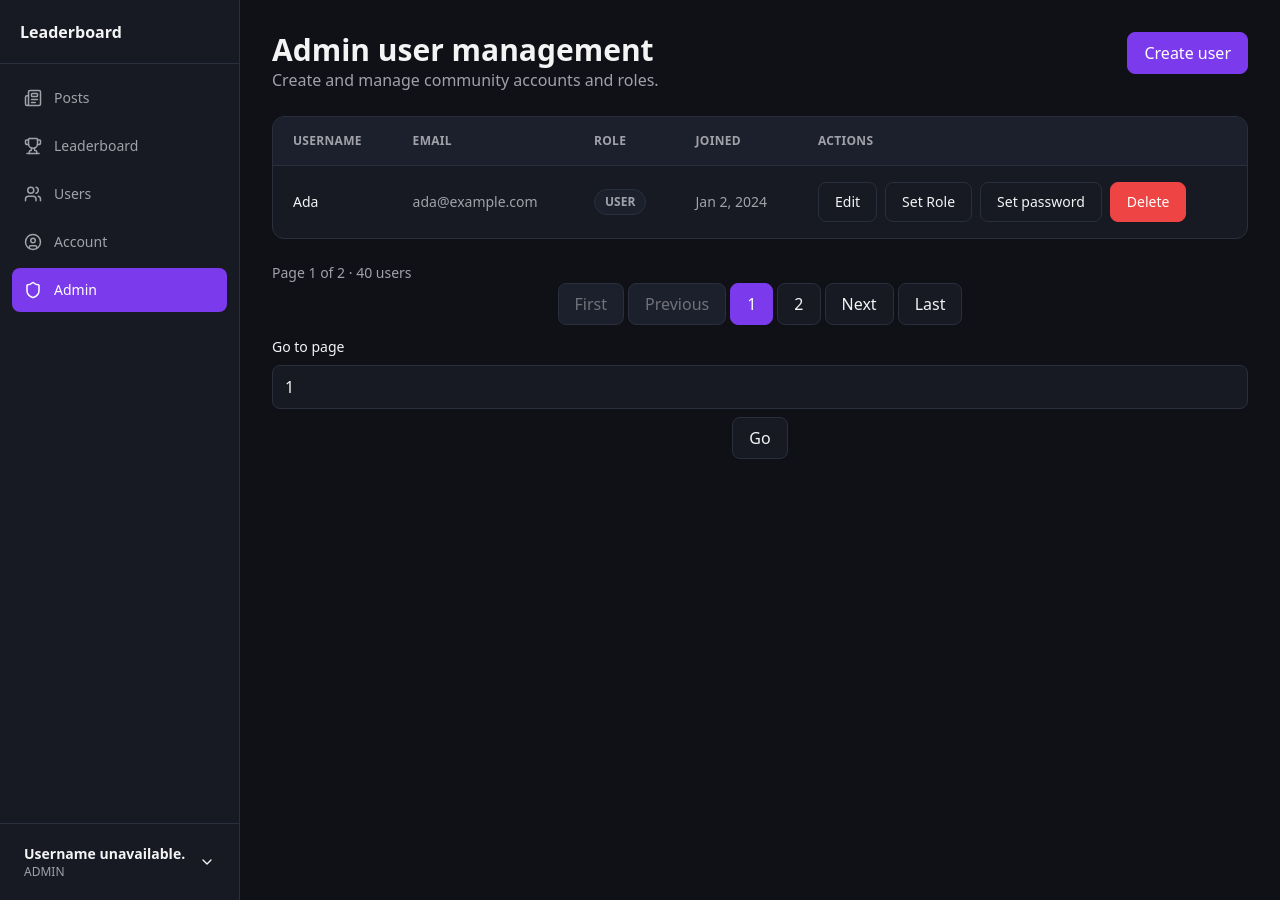
Scenario: Phase 11 admin dashboard › loads the next admin-users page using the shared paginated user endpoint
Expected: the text "Ada" is shown, [273,166,393,238]
Click the button with aria-label "Next page": (859, 304) [824,283,894,325]
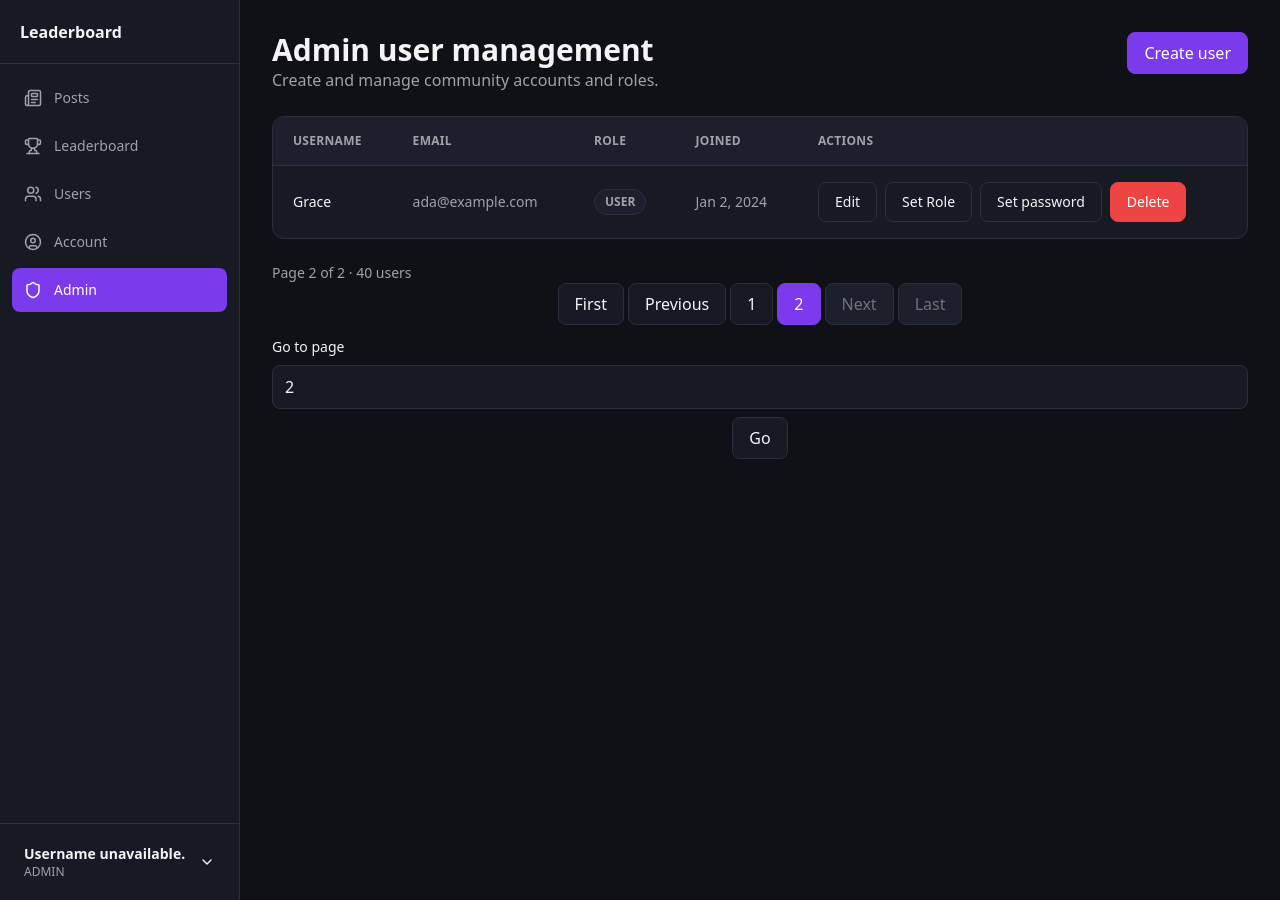
Now the text "Grace" is shown, box [273,166,393,238]
